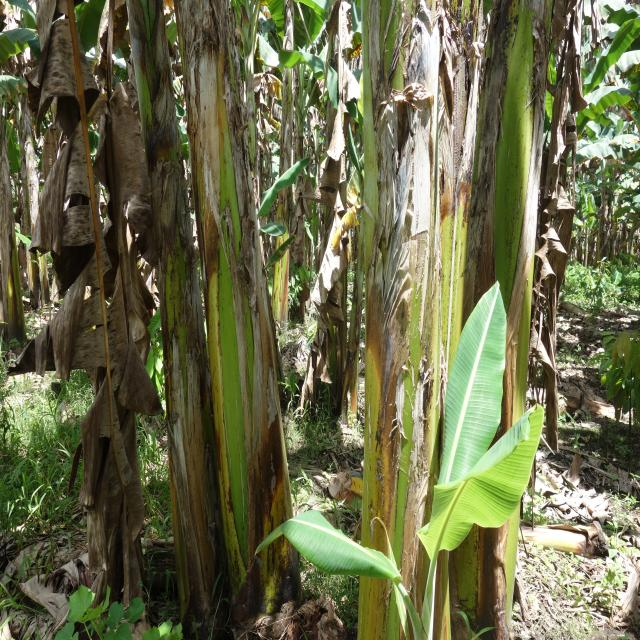Banana-plant: (434, 0, 560, 640), (171, 0, 300, 624), (353, 0, 470, 640), (126, 0, 217, 625)
